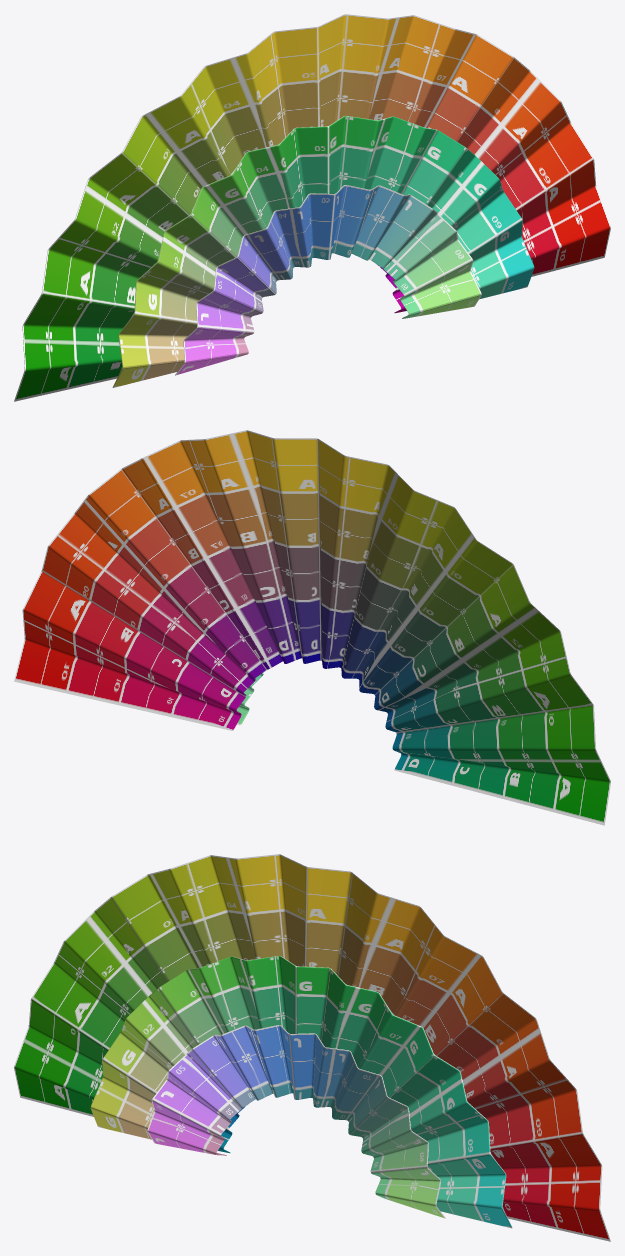
Rendered from paperFanFrozen.glb.
3 renders of one model, top to bottom at view 1: azimuth 30°, elevation 25°; view 2: azimuth 150°, elevation 25°; view 3: azimuth 330°, elevation 25°, orthographic.
Parts seen in each view (by area): view 1: paperFanThicknessFrozen; view 2: paperFanThicknessFrozen; view 3: paperFanThicknessFrozen.
Boxes of the visible parts, x1,y1,x2,y2 form: paperFanThicknessFrozen: (14,14,610,401); paperFanThicknessFrozen: (14,430,610,825); paperFanThicknessFrozen: (14,854,610,1241).
Size of the model in its own units: 13.73 by 6.87 by 1.05.
1 material, 1 textured.
